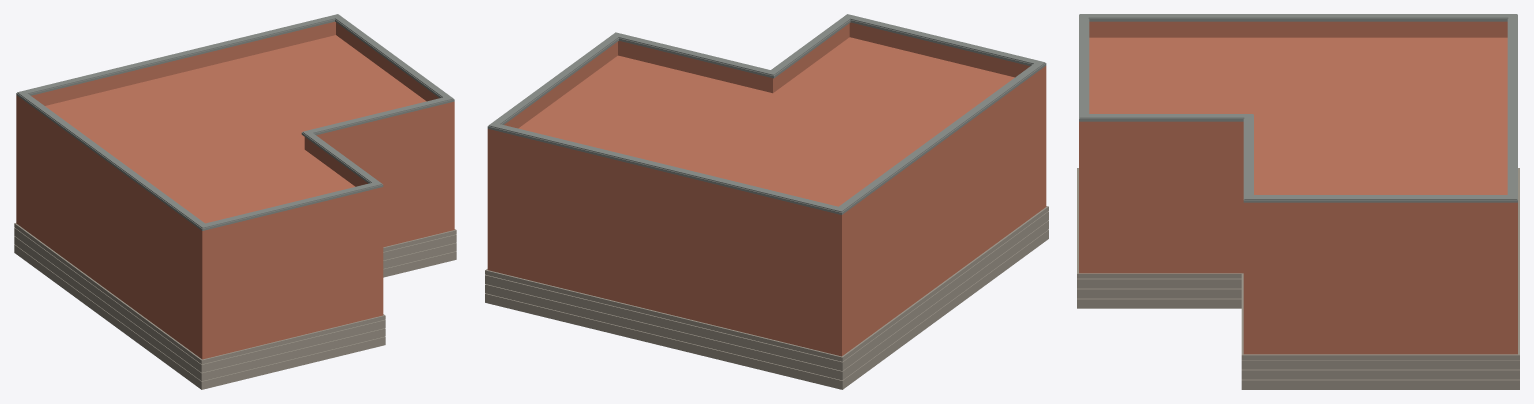
Rendered from building.glb.
3 renders of one model, left to right at view 1: azimuth 30°, elevation 25°; view 2: azimuth 150°, elevation 25°; view 3: azimuth 270°, elevation 25°, orthographic. The views are drawn at different scales.
Parts seen in each view (by area): view 1: roof/body:0/roof_slab#0001, body:0/edge5/z0/body:0/edge5/z0/wall_0_0, body:0/edge0/z0/body:0/edge0/z0/wall_0_0, roof/body:0/parapet#0001, body:0/edge2/z0/body:0/edge2/z0/wall_0_0, roof/body:0/parapet_cap#0002, trim/plinth/0/1/trim_plinth#0001, trim/plinth/0/2/trim_plinth#0001, trim/plinth/0/3/trim_plinth#0001, roof/body:0/parapet_cap#0001, trim/plinth/0/4/trim_plinth#0001, body:0/edge4/z0/body:0/edge4/z0/wall_0_0 (+1 smaller); view 2: roof/body:0/roof_slab#0001, body:0/edge4/z0/body:0/edge4/z0/wall_0_0, body:0/edge5/z0/body:0/edge5/z0/wall_0_0, roof/body:0/parapet#0001, roof/body:0/parapet_cap#0002, trim/plinth/0/1/trim_plinth#0001, trim/plinth/0/2/trim_plinth#0001, trim/plinth/0/3/trim_plinth#0001, roof/body:0/parapet_cap#0001, trim/plinth/0/4/trim_plinth#0001, body:0/edge3/z0/body:0/edge3/z0/wall_0_0, body:0/edge0/z0/body:0/edge0/z0/wall_0_0; view 3: roof/body:0/roof_slab#0001, body:0/edge3/z0/body:0/edge3/z0/wall_0_0, body:0/edge1/z0/body:0/edge1/z0/wall_0_0, roof/body:0/parapet#0001, roof/body:0/parapet_cap#0002, trim/plinth/0/1/trim_plinth#0001, trim/plinth/0/2/trim_plinth#0001, trim/plinth/0/3/trim_plinth#0001, roof/body:0/parapet_cap#0001, trim/plinth/0/4/trim_plinth#0001, body:0/edge2/z0/body:0/edge2/z0/wall_0_0, body:0/edge0/z0/body:0/edge0/z0/wall_0_0 (+3 smaller).
Boxes of the visible parts, <box> form: roof/body:0/roof_slab#0001: <box>20,35,449,251</box>; body:0/edge5/z0/body:0/edge5/z0/wall_0_0: <box>16,112,210,358</box>; body:0/edge0/z0/body:0/edge0/z0/wall_0_0: <box>197,202,383,359</box>; roof/body:0/parapet#0001: <box>16,21,454,245</box>; body:0/edge2/z0/body:0/edge2/z0/wall_0_0: <box>332,116,454,247</box>; roof/body:0/parapet_cap#0002: <box>17,14,453,228</box>; trim/plinth/0/1/trim_plinth#0001: <box>14,244,456,389</box>; trim/plinth/0/2/trim_plinth#0001: <box>14,236,456,380</box>; trim/plinth/0/3/trim_plinth#0001: <box>14,227,456,372</box>; roof/body:0/parapet_cap#0001: <box>16,19,454,230</box>; trim/plinth/0/4/trim_plinth#0001: <box>14,223,456,364</box>; body:0/edge4/z0/body:0/edge4/z0/wall_0_0: <box>16,35,336,226</box>; roof/body:0/roof_slab#0001: <box>489,37,1041,239</box>; body:0/edge4/z0/body:0/edge4/z0/wall_0_0: <box>488,145,846,356</box>; body:0/edge5/z0/body:0/edge5/z0/wall_0_0: <box>833,82,1046,355</box>; roof/body:0/parapet#0001: <box>487,22,1046,231</box>; roof/body:0/parapet_cap#0002: <box>488,14,1045,212</box>; trim/plinth/0/1/trim_plinth#0001: <box>485,230,1048,389</box>; trim/plinth/0/2/trim_plinth#0001: <box>485,220,1048,380</box>; trim/plinth/0/3/trim_plinth#0001: <box>485,211,1048,370</box>; roof/body:0/parapet_cap#0001: <box>487,19,1046,214</box>; trim/plinth/0/4/trim_plinth#0001: <box>485,206,1048,361</box>; body:0/edge3/z0/body:0/edge3/z0/wall_0_0: <box>487,56,620,271</box>; body:0/edge0/z0/body:0/edge0/z0/wall_0_0: <box>849,37,1046,209</box>; roof/body:0/roof_slab#0001: <box>1079,38,1517,228</box>; body:0/edge3/z0/body:0/edge3/z0/wall_0_0: <box>1243,220,1517,354</box>; body:0/edge1/z0/body:0/edge1/z0/wall_0_0: <box>1079,139,1243,273</box>; roof/body:0/parapet#0001: <box>1079,21,1517,219</box>; roof/body:0/parapet_cap#0002: <box>1079,14,1517,199</box>; trim/plinth/0/1/trim_plinth#0001: <box>1077,298,1519,389</box>; trim/plinth/0/2/trim_plinth#0001: <box>1077,288,1519,379</box>; trim/plinth/0/3/trim_plinth#0001: <box>1077,278,1519,369</box>; roof/body:0/parapet_cap#0001: <box>1079,14,1517,202</box>; trim/plinth/0/4/trim_plinth#0001: <box>1077,168,1519,359</box>; body:0/edge2/z0/body:0/edge2/z0/wall_0_0: <box>1243,140,1254,354</box>; body:0/edge0/z0/body:0/edge0/z0/wall_0_0: <box>1079,39,1089,273</box>.
Size of the model in its own units: 8.07 by 3.82 by 8.07.
